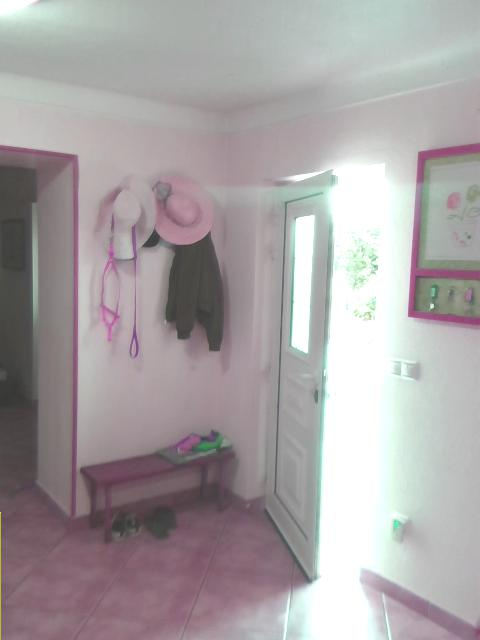semi_door: (257, 164, 388, 587)
